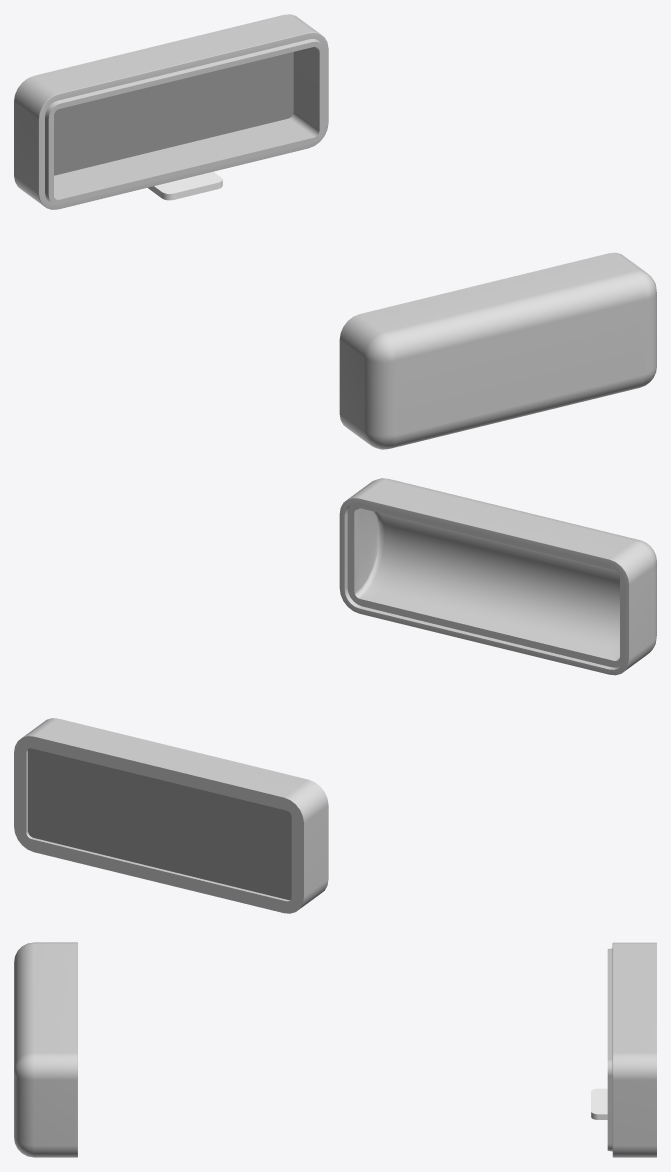
Rendered from CoinBox.fbx.
3 renders of one model, top to bottom at view 1: azimuth 30°, elevation 25°; view 2: azimuth 150°, elevation 25°; view 3: azimuth 270°, elevation 25°, orthographic. The views are drawn at different scales.
Parts seen in each view (by area): view 1: CoinStak_Big_Top, CoinBox; view 2: CoinBox, CoinStak_Big_Top; view 3: CoinBox, CoinStak_Big_Top.
Boxes of the visible parts, <box> form: CoinStak_Big_Top: <box>14,14,328,209</box>; CoinBox: <box>339,252,656,449</box>; CoinBox: <box>339,478,656,675</box>; CoinStak_Big_Top: <box>14,718,328,913</box>; CoinBox: <box>14,942,77,1157</box>; CoinStak_Big_Top: <box>591,942,656,1157</box>.
Bounding box in the file's own units: 3.34 × 1.35 × 7.21.
Materials: 3 (1 with a texture image).
